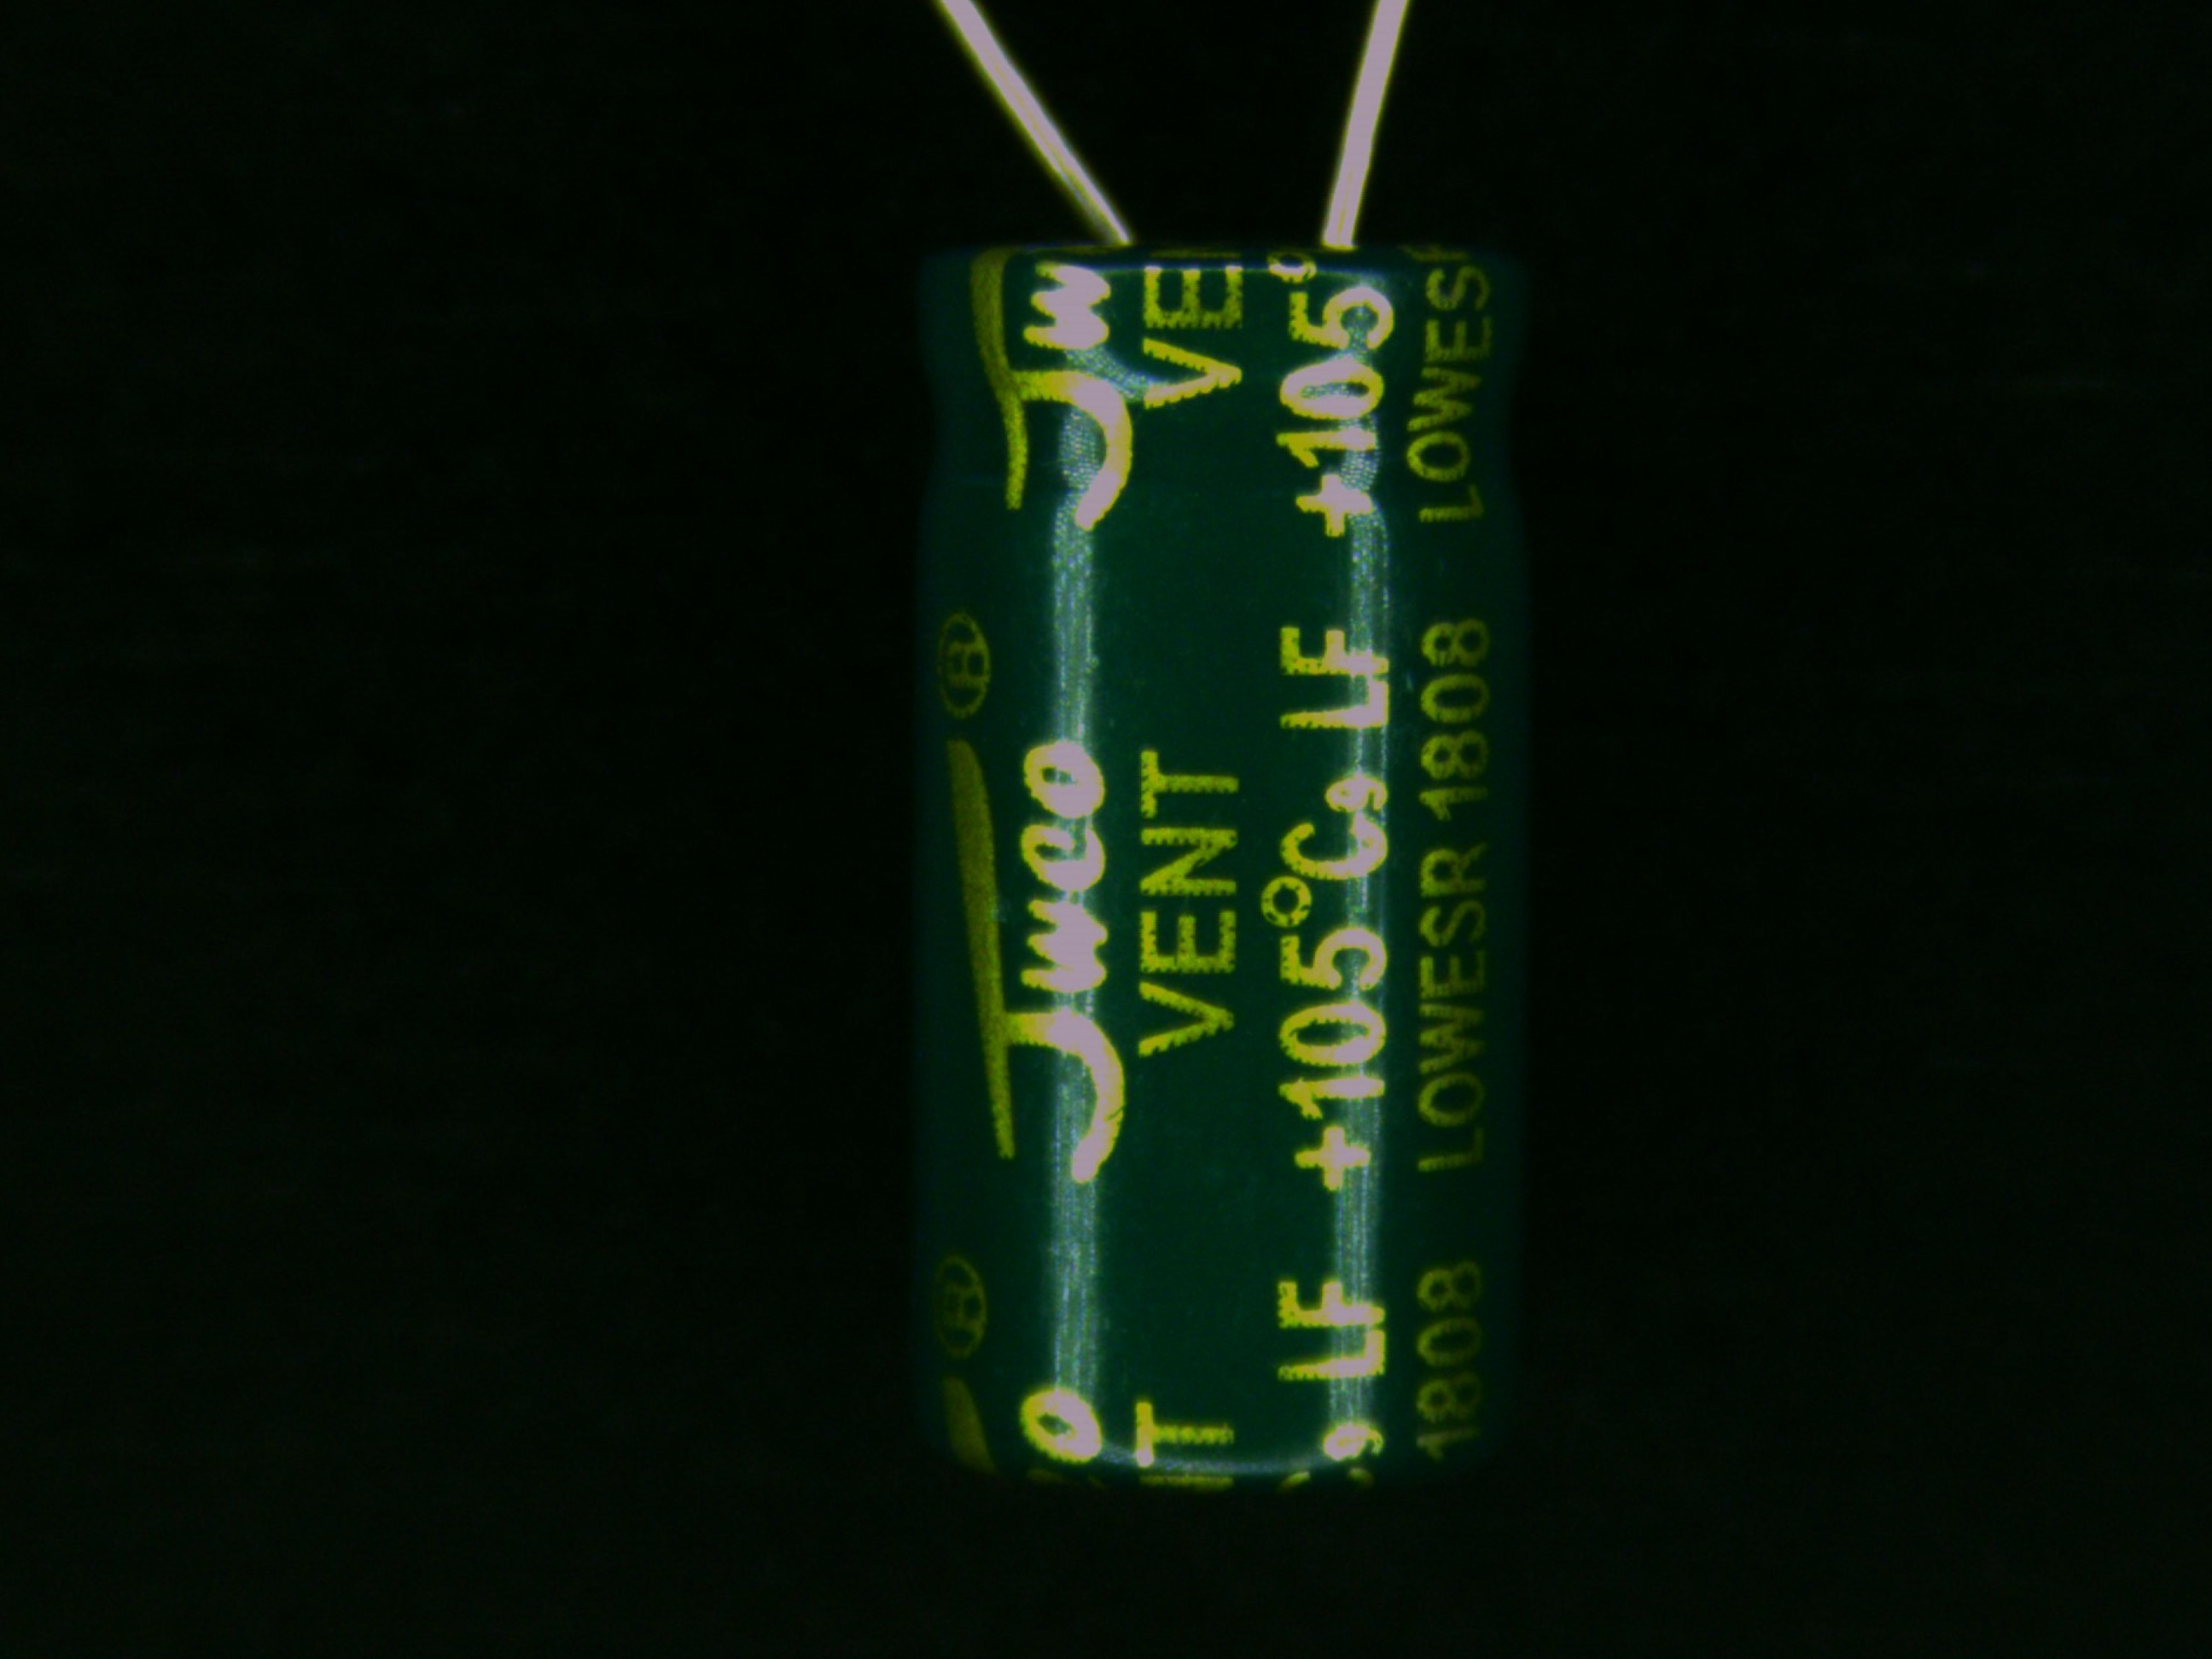c1: (900, 0, 1533, 1497)
